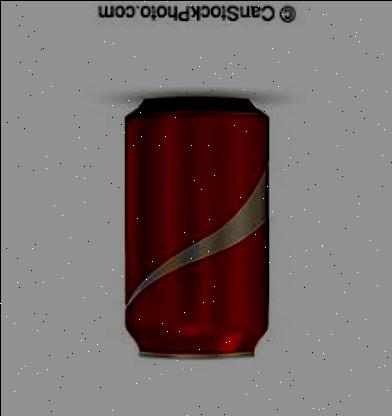Can: (118, 90, 270, 362)
